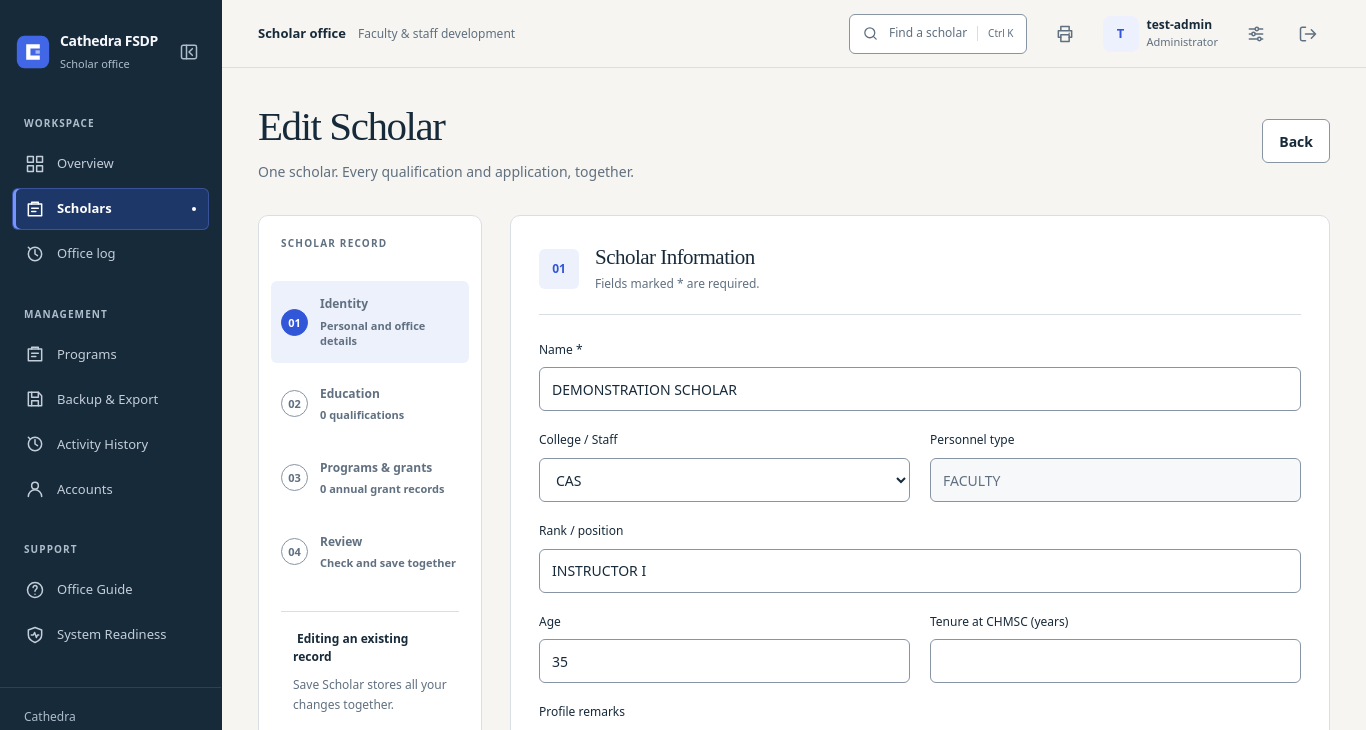
Test case: expired-session sign-in preserves the same scholar draft without resubmitting
The image size is (1366, 730).
Replace the text in the field labelled "Name *" with "Draft retained". click: (920, 389)
box: [539,367,1301,411]
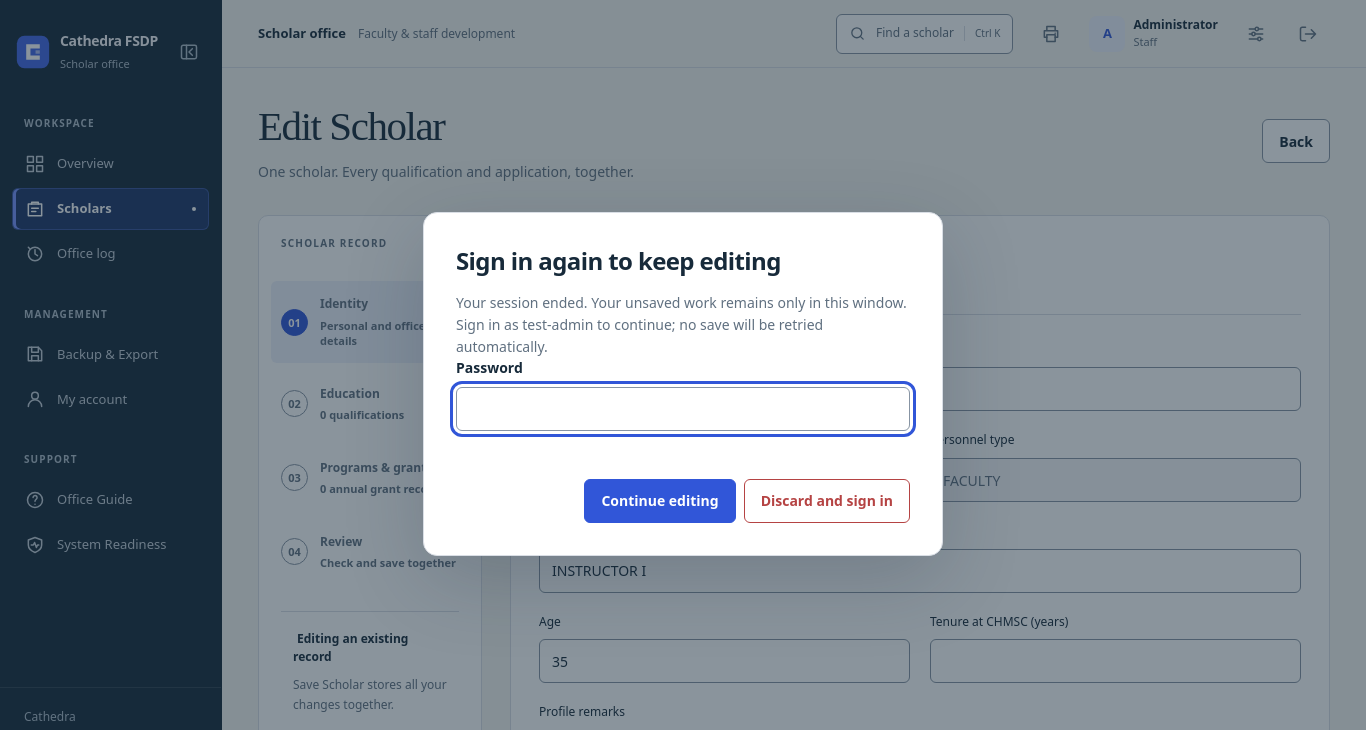
Result: the dialog "Sign in again to keep editing" is shown at [423,212,943,556]
Type "synthetic-password" into the password field labelled "Password". click: (683, 409)
box: [456,387,910,431]
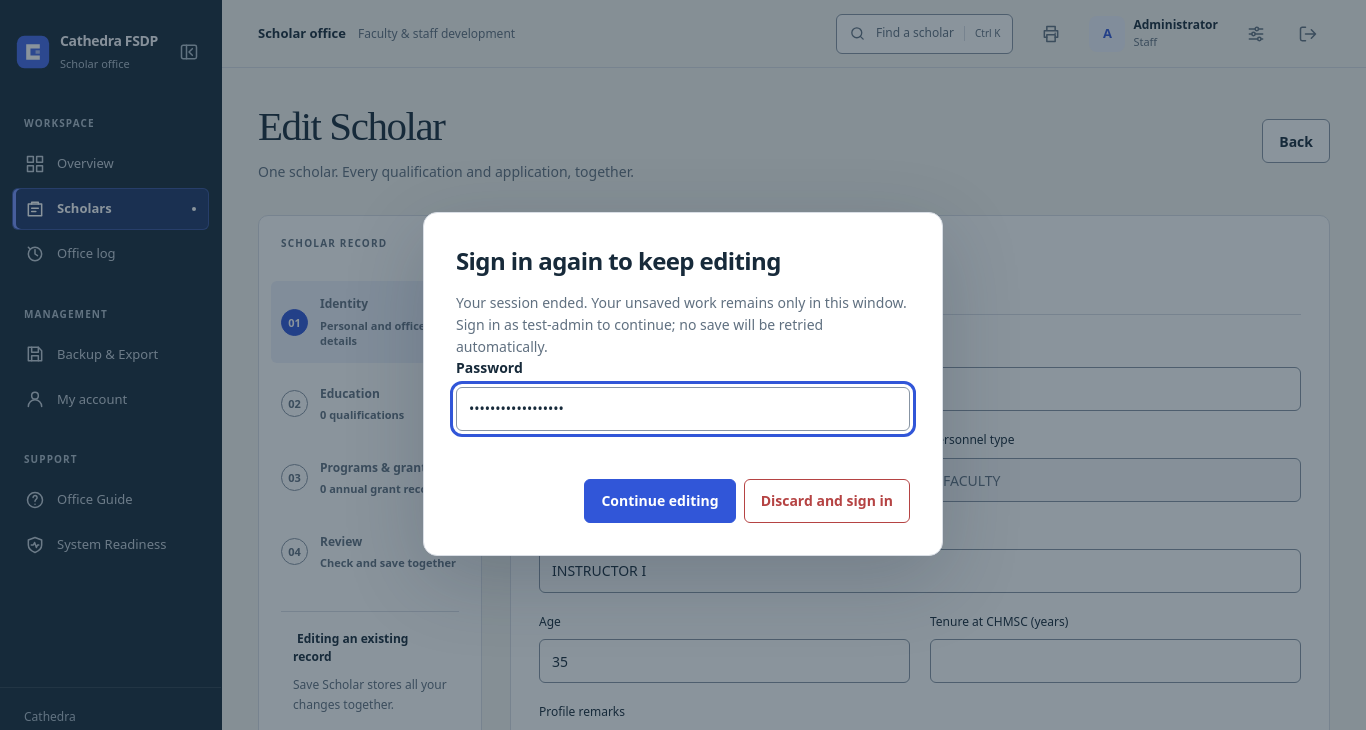
Click the button "Continue editing". click: click(660, 501)
box: [584,479,736,523]
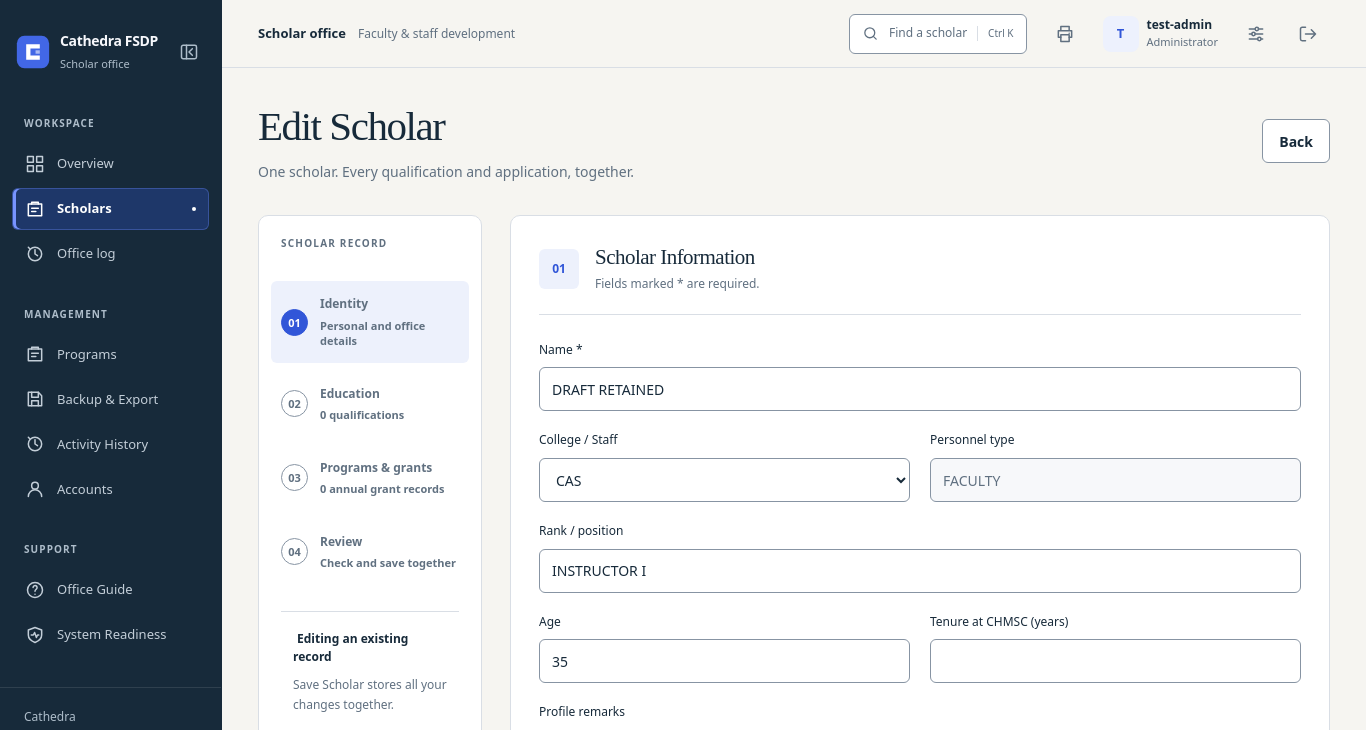
Result: the heading "Sign in again to keep editing" is gone
